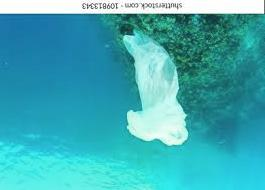Trash: (110, 28, 201, 154)
